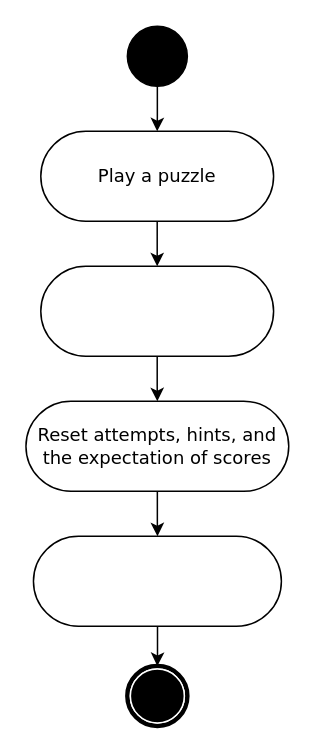
The diagram is 317 pixels wide and 753 high, and some of its shapes have lost their labels. Each missing label, with the centre of its shape:
Choose the option to restart the puzzle: (x=156, y=310)
Play this puzzle as a new begining: (x=156, y=580)
